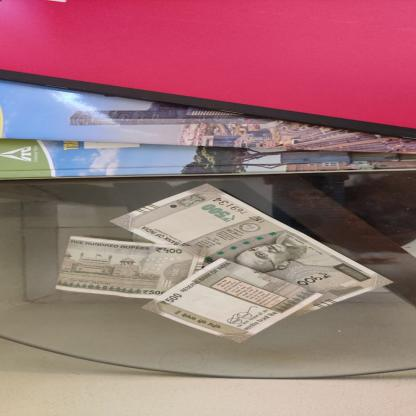New500Back: (141, 258, 324, 344), (54, 235, 208, 300)
New500Front: (108, 183, 396, 317)
